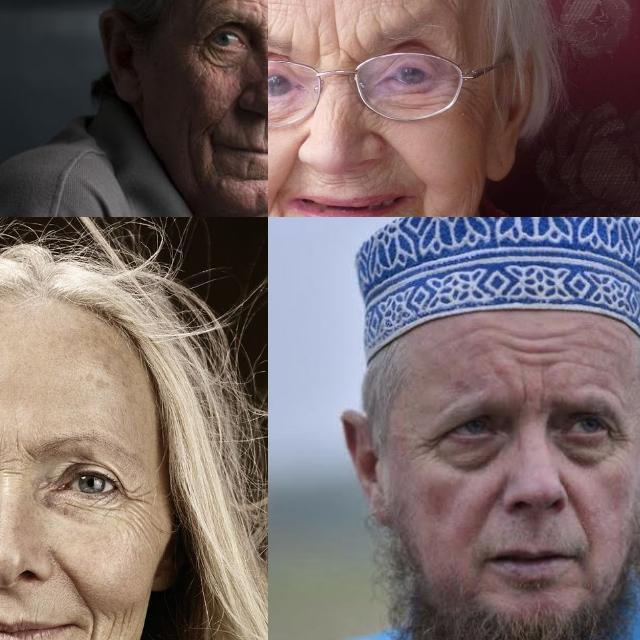bunny_line: (326, 98, 342, 124)
chin: (240, 158, 253, 180)
crows_feet: (120, 485, 154, 523), (406, 428, 444, 460), (604, 421, 636, 457), (184, 38, 212, 68)
forehead: (510, 324, 560, 370), (466, 316, 499, 344), (378, 0, 456, 7), (268, 0, 303, 13)
frown_line: (312, 25, 352, 63), (0, 438, 34, 476), (519, 378, 549, 412), (265, 9, 268, 36)
gummy_smile: (50, 552, 99, 612), (378, 130, 429, 182), (476, 476, 512, 532), (558, 478, 586, 530), (275, 138, 299, 192), (212, 94, 238, 136)
masseter: (178, 127, 204, 181), (107, 604, 134, 640), (466, 170, 480, 212)
sad_smile: (268, 199, 291, 217), (415, 208, 438, 217)
smoker_lines: (312, 173, 374, 195), (257, 117, 268, 144)
